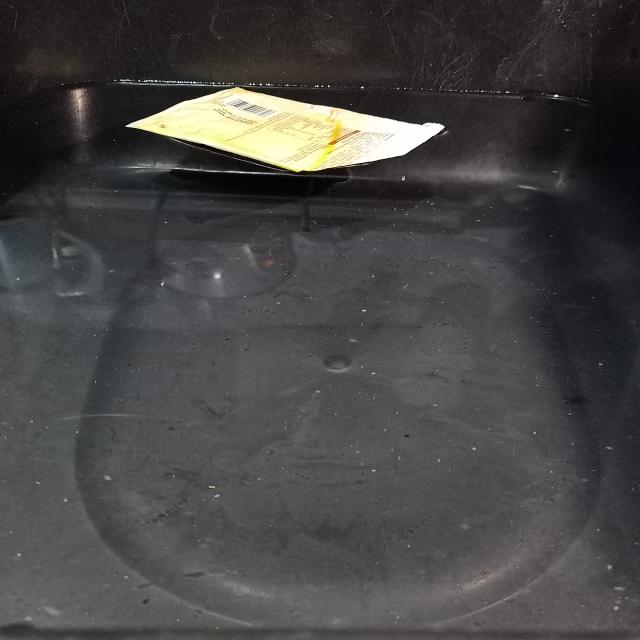Plastic Wrapper: (127, 87, 444, 172)
